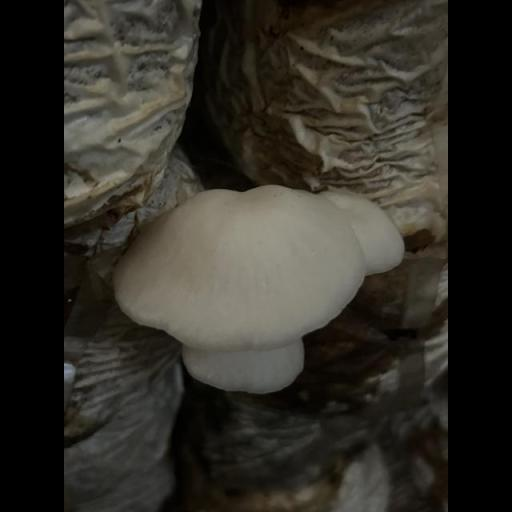White Oyster Mushroom: (113, 184, 405, 394)
